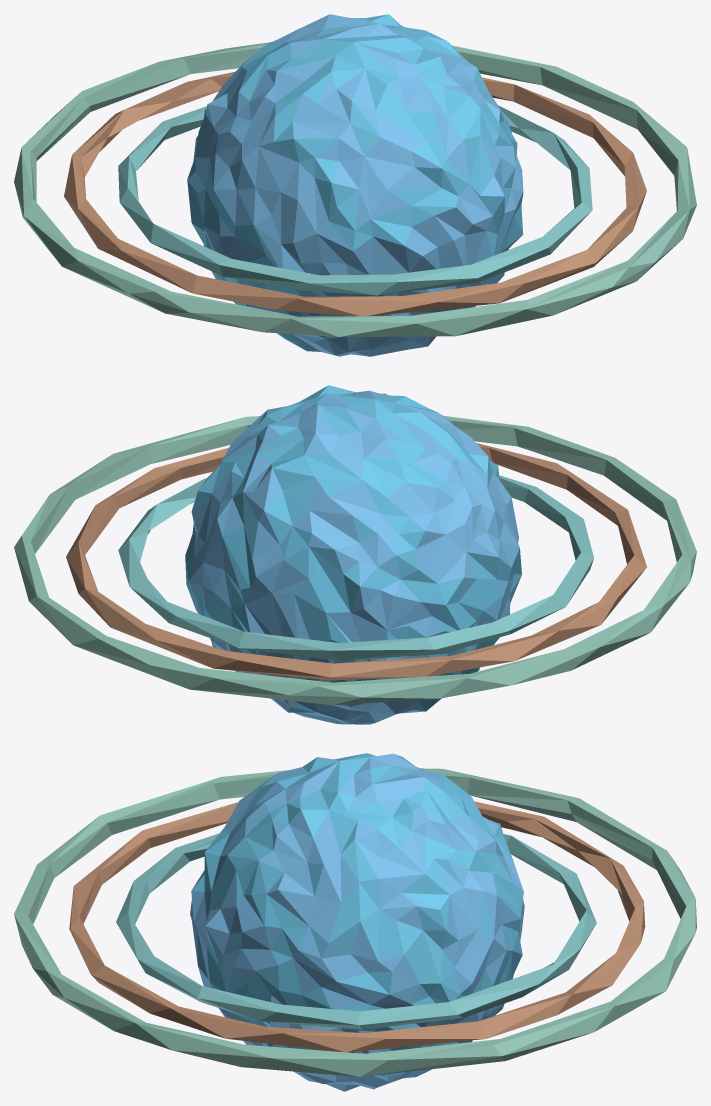
File: Uranus.glb
The picture shows the model from 3 angles, top to bottom: view 1: azimuth 30°, elevation 25°; view 2: azimuth 150°, elevation 25°; view 3: azimuth 270°, elevation 25°; orthographic projection.
Visible parts, largest first — view 1: Uranus; view 2: Uranus; view 3: Uranus.
Part boxes in pixels (box(x1,y1,x2,y2)): Uranus: box(14, 14, 696, 356); Uranus: box(14, 385, 696, 724); Uranus: box(14, 753, 696, 1091).
Bounding box in the file's own units: 199 × 99.99 × 200.
1 material, 1 textured.
